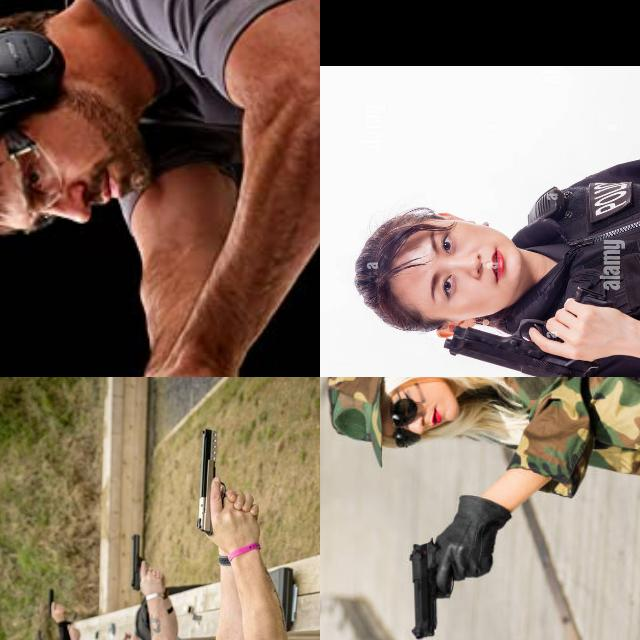handgun: (439, 313, 603, 377), (404, 534, 456, 640), (195, 426, 229, 536)
